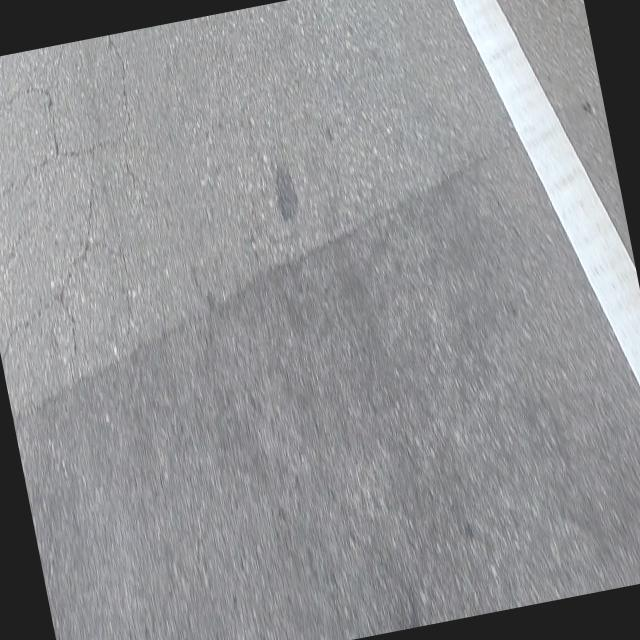Retak-Buaya: (0, 34, 143, 360)
